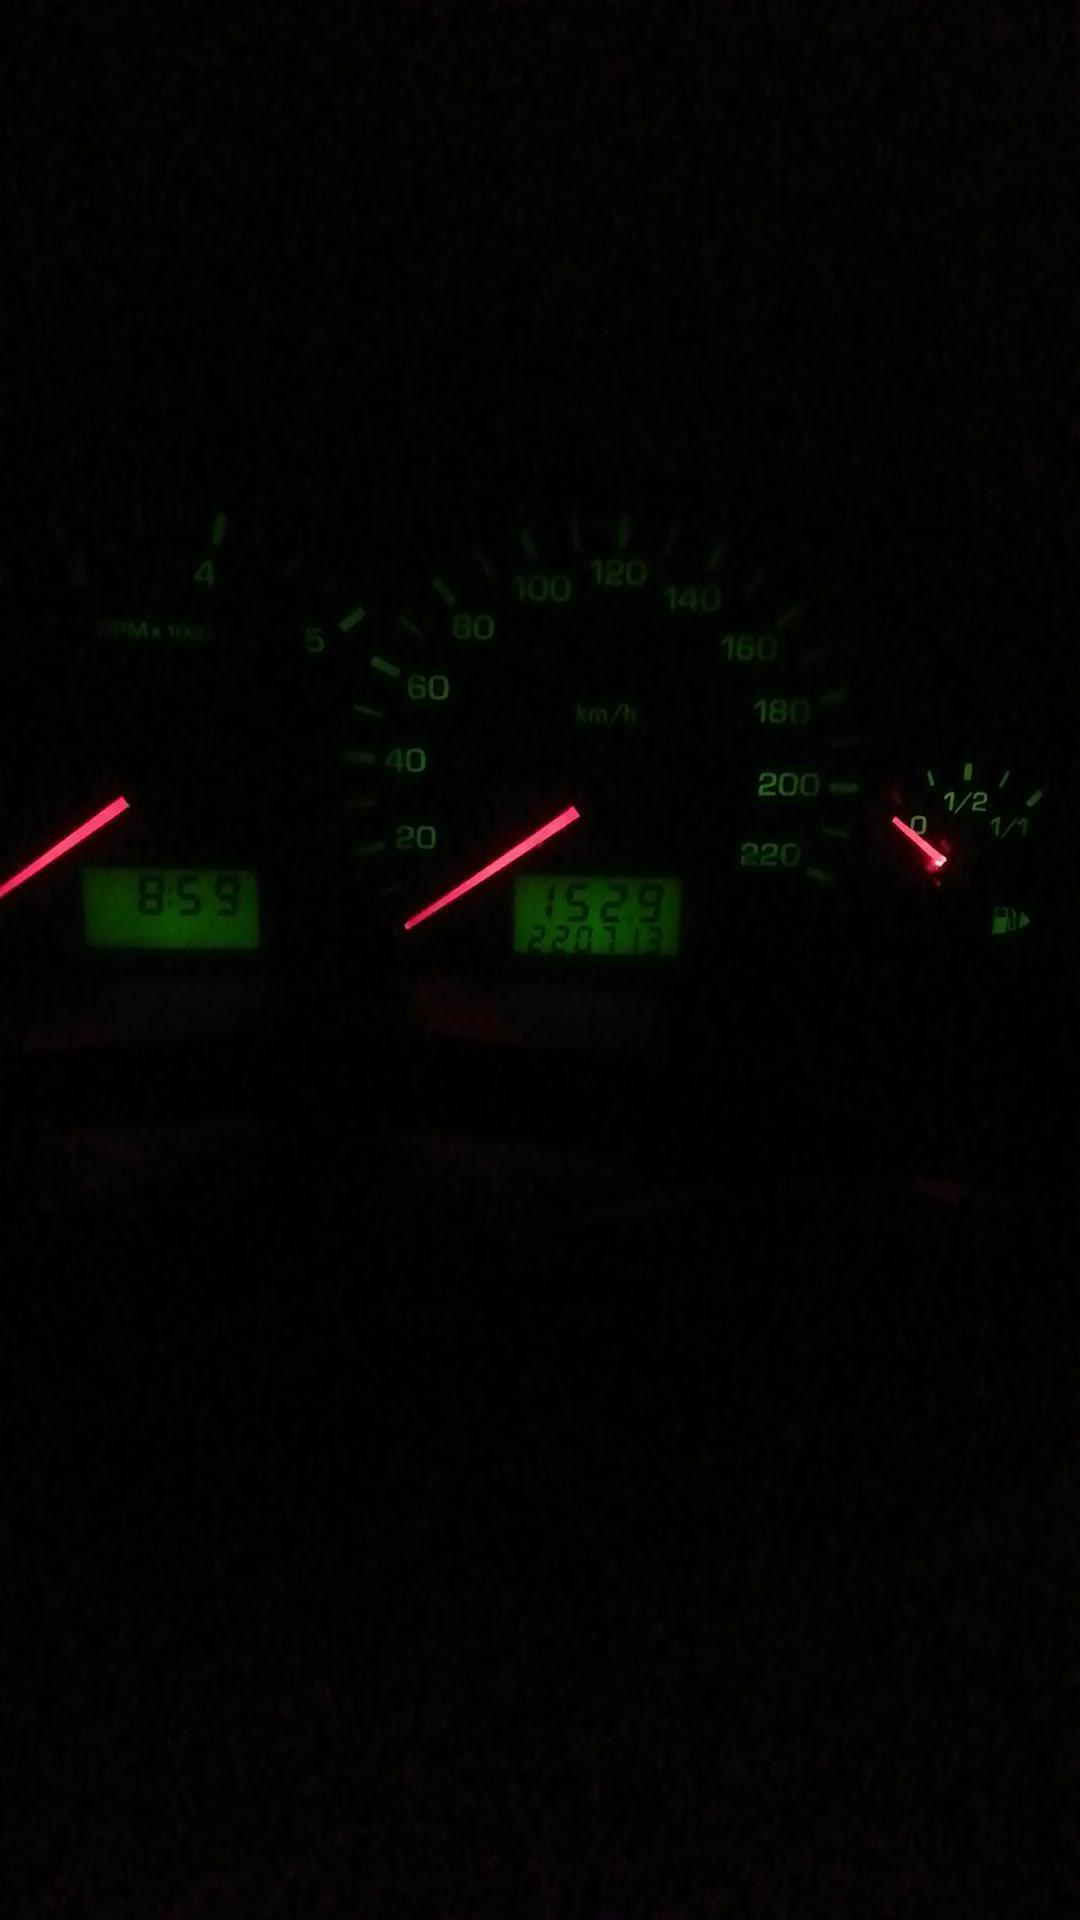,: (625, 916, 633, 924)
0: (574, 924, 593, 953)
1: (545, 886, 556, 919), (632, 926, 641, 955)
2: (599, 882, 628, 923), (527, 922, 545, 953), (551, 924, 570, 953)
3: (644, 924, 665, 955)
5: (564, 880, 589, 922)
7: (600, 924, 617, 953)
9: (636, 880, 665, 923)
odometer: (506, 869, 688, 961)
